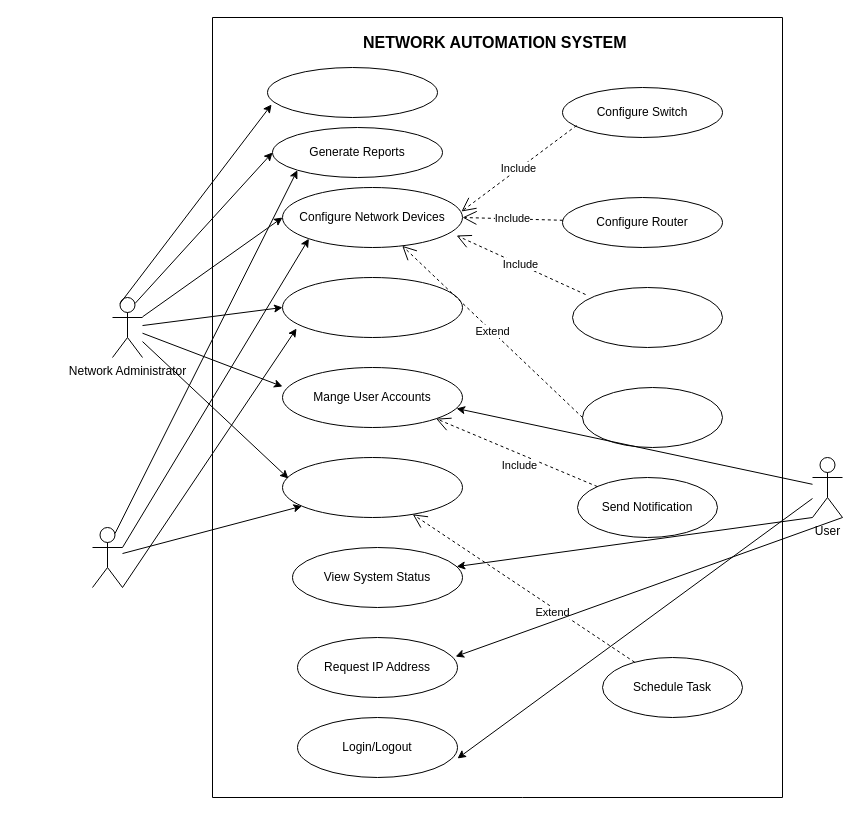
Some shapes in this 868 by 816 pixel diagram are drawn without their labels. Here are the shapes that lost their labels. From the top down, the box of each, then its label:
(266, 66, 438, 118): Monitor Network Status
(282, 276, 462, 338): Perform Security Checks
(572, 286, 722, 348): Configure Firewall
(582, 386, 722, 448): Send Feedback
(282, 456, 462, 518): Update firmware
(92, 526, 122, 588): Automation Tool(Ansible,Netmiko)
